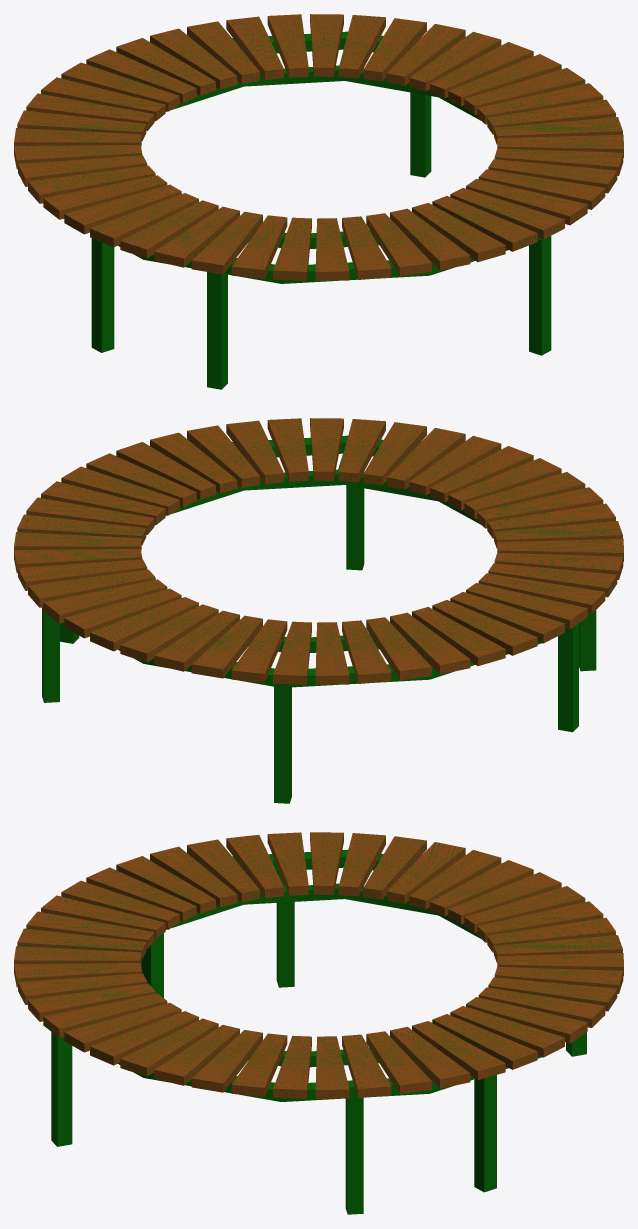
3 renders of one model, top to bottom at view 1: azimuth 30°, elevation 25°; view 2: azimuth 150°, elevation 25°; view 3: azimuth 270°, elevation 25°, orthographic.
Visible parts, largest first — view 1: mesh1_mesh1-geometry, mesh2_mesh2-geometry, mesh3_mesh3-geometry; view 2: mesh1_mesh1-geometry, mesh2_mesh2-geometry, mesh3_mesh3-geometry; view 3: mesh1_mesh1-geometry, mesh2_mesh2-geometry, mesh3_mesh3-geometry.
Boxes of the visible parts, left/top/right/bottom form: mesh1_mesh1-geometry: left=14, top=14, right=623, bottom=280; mesh2_mesh2-geometry: left=91, top=92, right=551, bottom=389; mesh3_mesh3-geometry: left=118, top=31, right=541, bottom=283; mesh1_mesh1-geometry: left=14, top=418, right=623, bottom=684; mesh2_mesh2-geometry: left=42, top=447, right=596, bottom=803; mesh3_mesh3-geometry: left=118, top=435, right=542, bottom=687; mesh1_mesh1-geometry: left=14, top=832, right=623, bottom=1099; mesh2_mesh2-geometry: left=51, top=871, right=586, bottom=1214; mesh3_mesh3-geometry: left=118, top=849, right=541, bottom=1101.
Bounding box in the file's own units: 0.6967 × 0.1717 × 0.6965.
